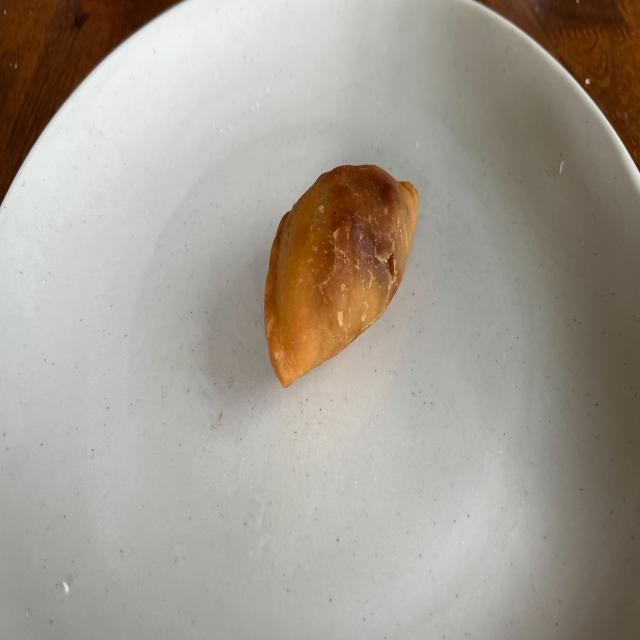karipap: (265, 164, 419, 387)
